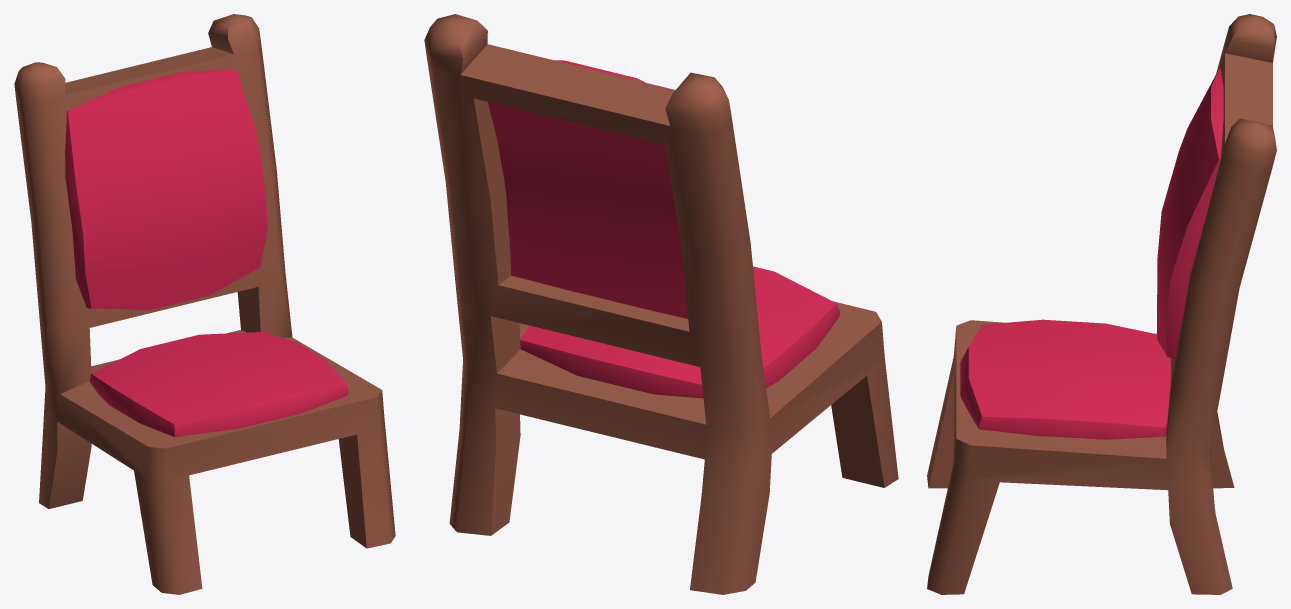
Rendered from diningchair_red.fbx.
3 views of the same model, side by side, from view 1: azimuth 30°, elevation 25°; view 2: azimuth 150°, elevation 25°; view 3: azimuth 270°, elevation 25° (orthographic). The views are drawn at different scales.
Parts seen in each view (by area): view 1: diningchair_red; view 2: diningchair_red; view 3: diningchair_red.
Part boxes in pixels (x1,y1,x2,y2): diningchair_red: (14, 14, 395, 594); diningchair_red: (424, 14, 898, 594); diningchair_red: (927, 14, 1276, 594).
Size of the model in its own units: 0.7329 by 1.24 by 0.8523.
